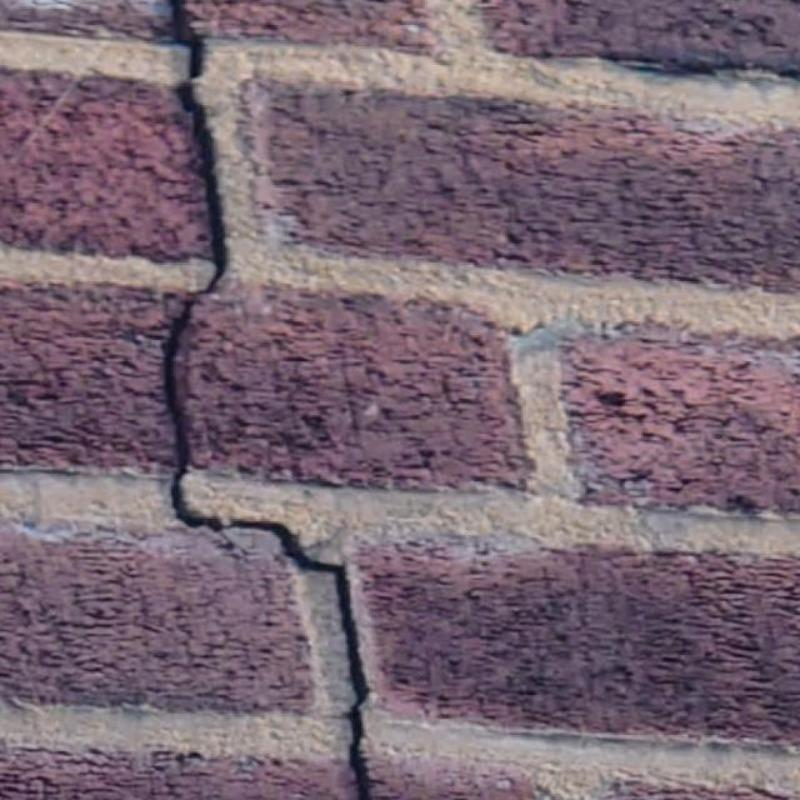crack: (166, 300, 370, 800), (171, 0, 225, 298)
